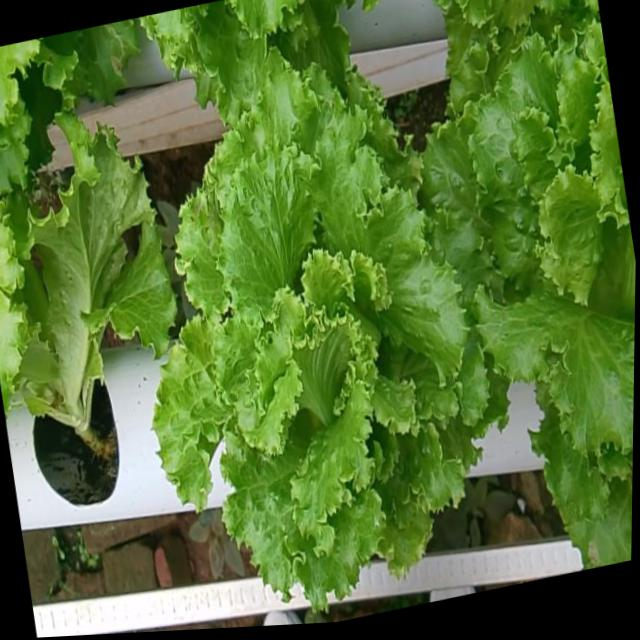Mature: (148, 65, 486, 606), (420, 37, 636, 468)
